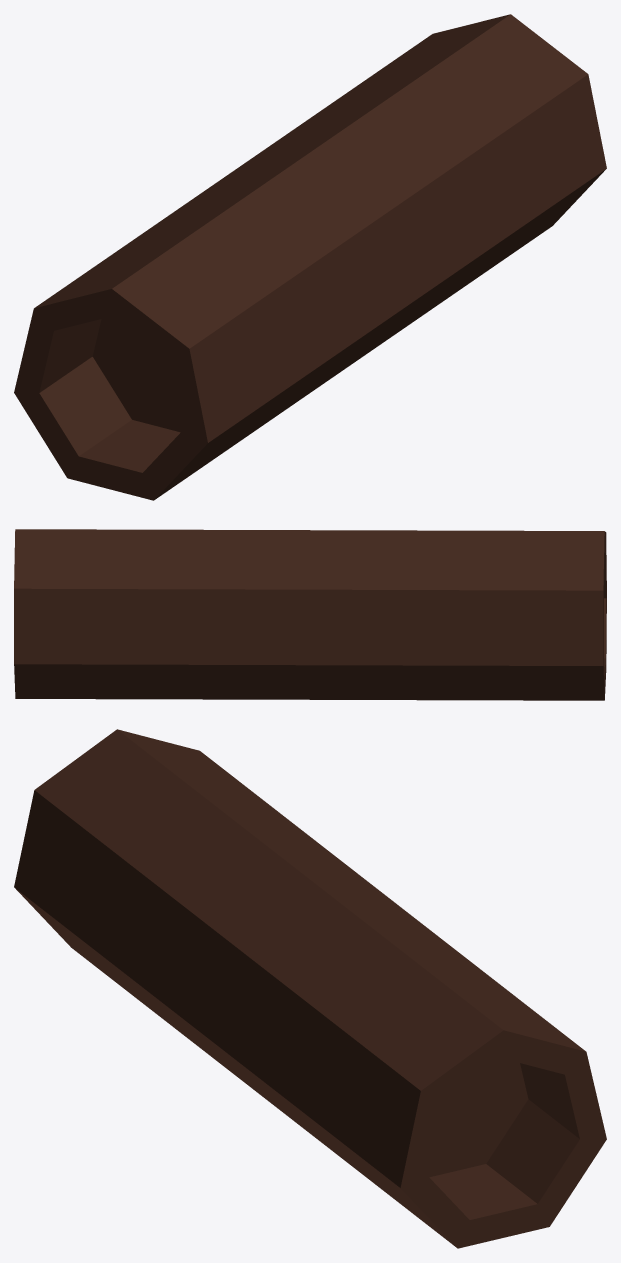
Rendered from Tile_Ambient_FallenLog.fbx.
The picture shows the model from 3 angles, top to bottom: view 1: azimuth 30°, elevation 25°; view 2: azimuth 150°, elevation 25°; view 3: azimuth 270°, elevation 25°; orthographic projection. The views are drawn at different scales.
Parts seen in each view (by area): view 1: FallenLog; view 2: FallenLog; view 3: FallenLog.
Boxes of the visible parts, bbox=[...] form: FallenLog: bbox=[14, 14, 606, 500]; FallenLog: bbox=[14, 529, 606, 700]; FallenLog: bbox=[14, 729, 606, 1248].
Bounding box in the file's own units: 162 × 46.77 × 118.
